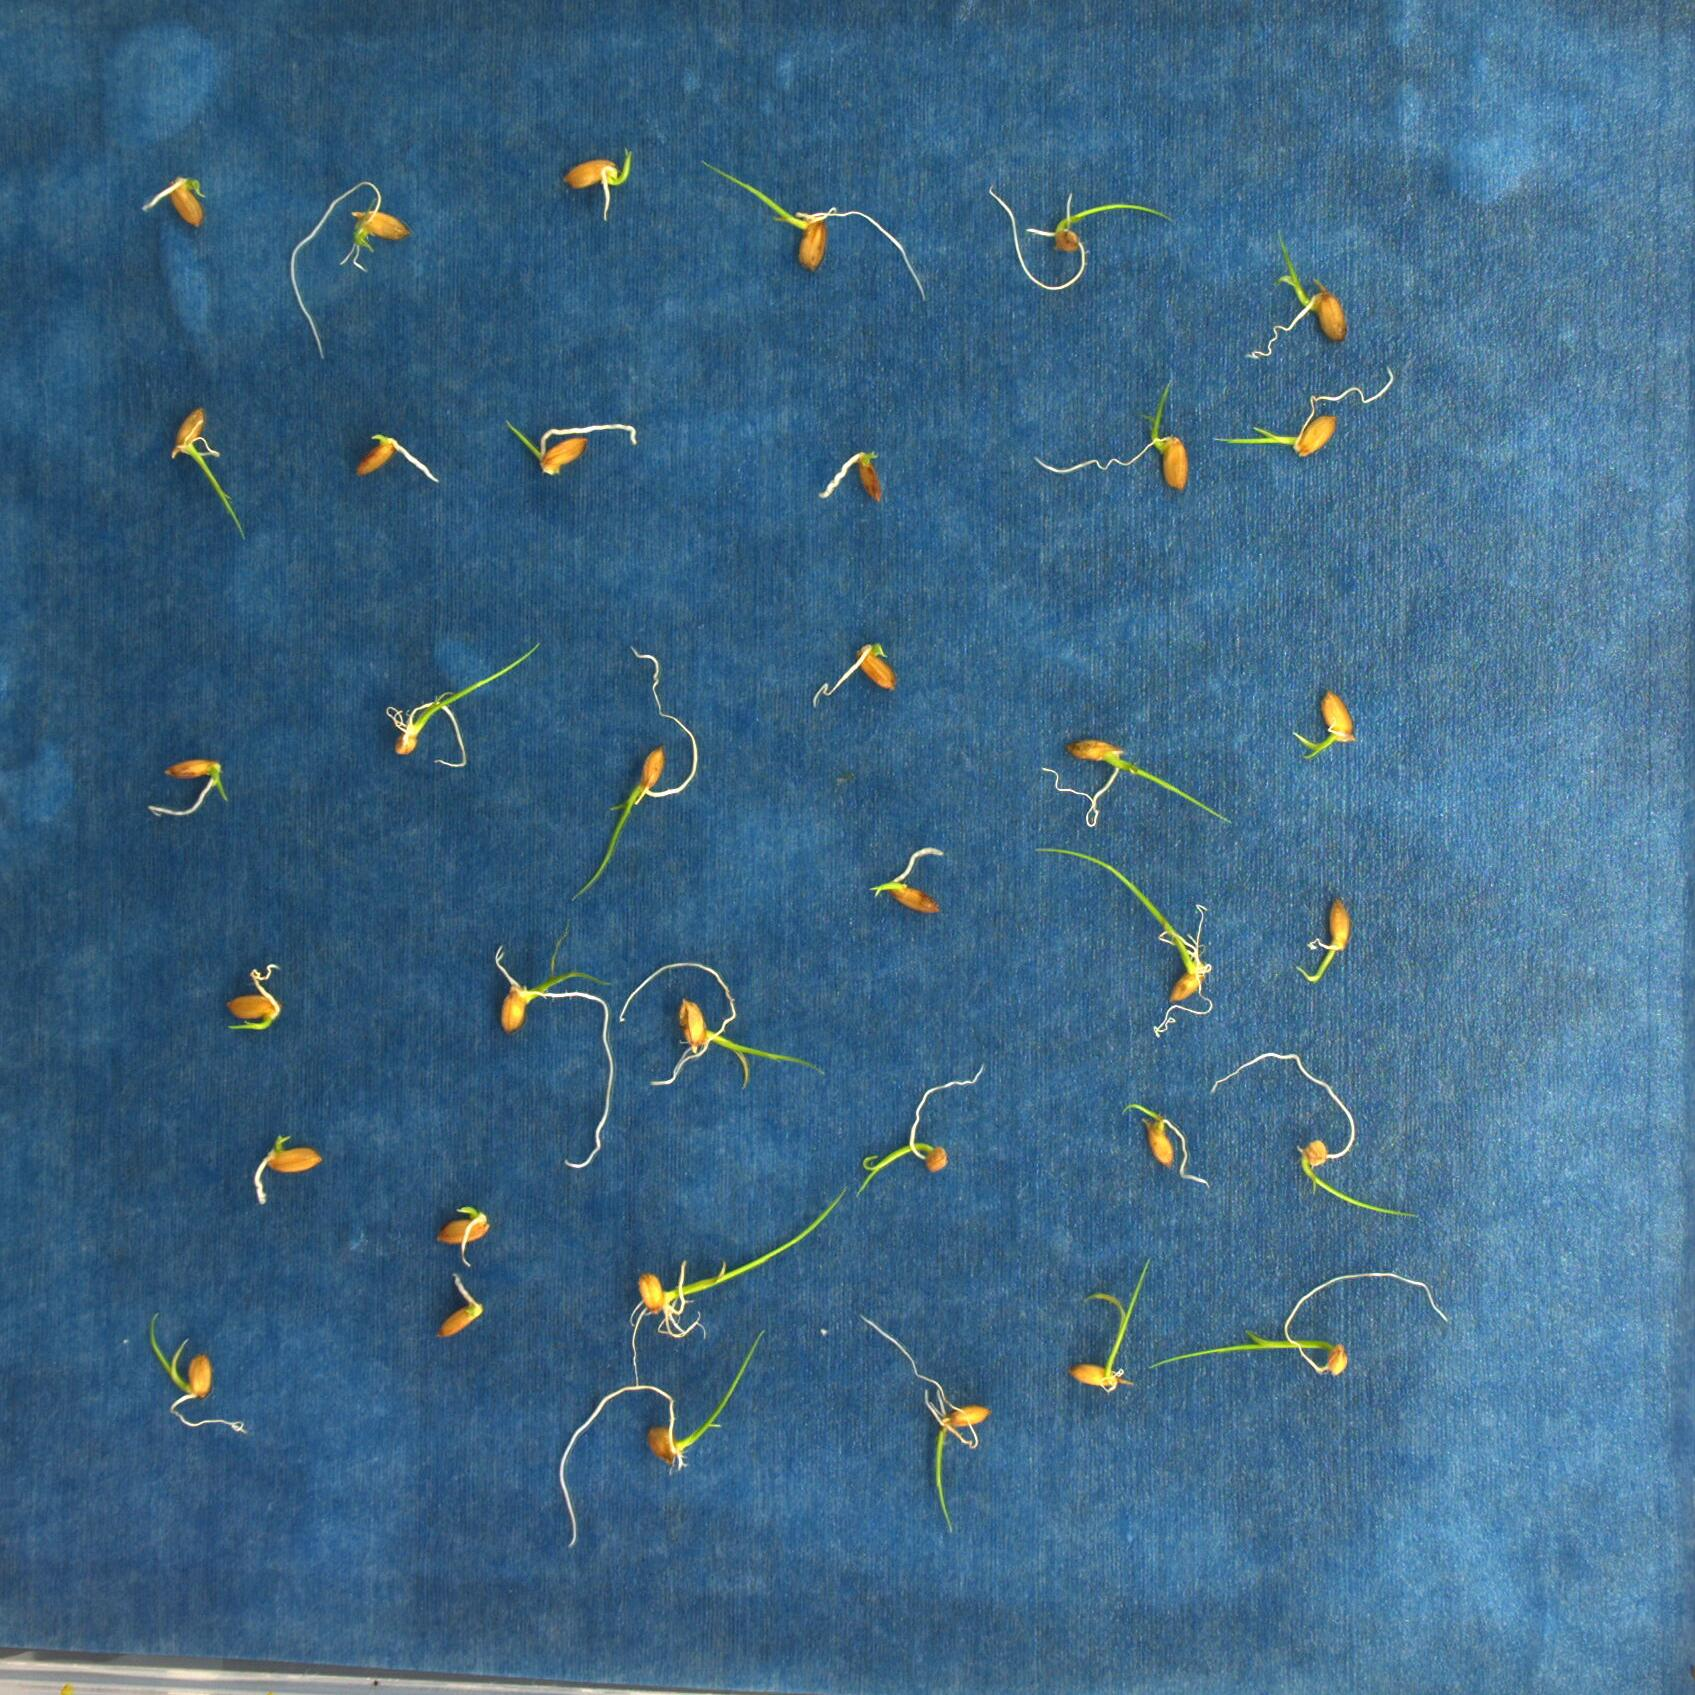not sprout: (1121, 1097, 1212, 1187), (810, 638, 899, 708), (251, 1128, 321, 1201), (349, 432, 438, 487), (810, 445, 886, 504), (428, 1203, 494, 1267), (435, 1273, 483, 1340)
sprout: (557, 1322, 767, 1546), (633, 1183, 852, 1391), (1209, 1045, 1425, 1220), (697, 155, 930, 304), (1146, 1265, 1451, 1378), (1034, 849, 1212, 1037), (568, 643, 698, 899), (494, 913, 612, 1169), (857, 1312, 989, 1534), (618, 959, 826, 1088), (292, 179, 408, 362), (1032, 365, 1187, 495), (986, 183, 1175, 289), (385, 643, 543, 768), (1040, 736, 1239, 830), (858, 1059, 986, 1198), (1212, 368, 1395, 459), (1245, 225, 1347, 363), (147, 1309, 248, 1434), (1063, 1256, 1153, 1395), (165, 407, 251, 543), (504, 418, 640, 478), (557, 147, 638, 224), (868, 844, 948, 916), (144, 756, 231, 815), (1291, 897, 1350, 981), (137, 172, 208, 237), (1291, 688, 1355, 761), (222, 959, 286, 1032)
